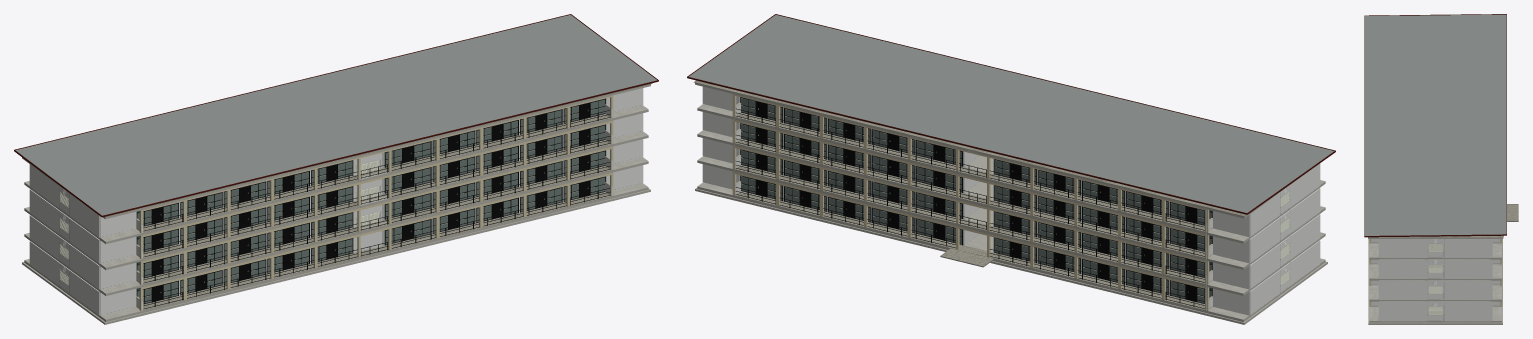
File: Hostel_Optimized.fbx
The picture shows the model from 3 angles, left to right: view 1: azimuth 30°, elevation 25°; view 2: azimuth 150°, elevation 25°; view 3: azimuth 270°, elevation 25°; orthographic projection. The views are drawn at different scales.
Parts seen in each view (by area): view 1: Roof_and_Site_Section_WebStatic, F1_Architecture_Section_WebStatic, F3_Architecture_Section_WebStatic, F2_Architecture_Section_WebStatic, F4_Architecture_Section_WebStatic, Corridor_End_Windows_0_WebStatic, Corridor_End_Windows_1_WebStatic, Corridor_End_Windows_2_WebStatic, F1_Washroom_West_Section_WebStatic, F2_Washroom_West_Section_WebStatic, F3_Washroom_West_Section_WebStatic, F4_Washroom_West_Section_WebStatic (+47 smaller); view 2: Roof_and_Site_Section_WebStatic, F3_Architecture_Section_WebStatic, F2_Architecture_Section_WebStatic, F1_Architecture_Section_WebStatic, F4_Architecture_Section_WebStatic, Corridor_End_Windows_0_WebStatic, Corridor_End_Windows_1_WebStatic, Corridor_End_Windows_2_WebStatic, F2_Washroom_West_Section_WebStatic, F3_Washroom_West_Section_WebStatic, F1_Washroom_West_Section_WebStatic, F4_Washroom_West_Section_WebStatic (+40 smaller); view 3: Roof_and_Site_Section_WebStatic, Corridor_End_Windows_0_WebStatic, Corridor_End_Windows_1_WebStatic, Corridor_End_Windows_2_WebStatic, F1_Architecture_Section_WebStatic, F2_Architecture_Section_WebStatic, F3_Architecture_Section_WebStatic, F4_Architecture_Section_WebStatic, Corridor_End_Windows_3_WebStatic.
Boxes of the visible parts, box(x1,y1,x2,y2) form: Roof_and_Site_Section_WebStatic: box(14, 14, 658, 324); F1_Architecture_Section_WebStatic: box(24, 172, 648, 321); F3_Architecture_Section_WebStatic: box(24, 120, 648, 269); F2_Architecture_Section_WebStatic: box(24, 146, 648, 295); F4_Architecture_Section_WebStatic: box(24, 95, 648, 243); Corridor_End_Windows_0_WebStatic: box(29, 139, 643, 315); Corridor_End_Windows_1_WebStatic: box(29, 113, 643, 263); Corridor_End_Windows_2_WebStatic: box(29, 88, 643, 237); F1_Washroom_West_Section_WebStatic: box(99, 288, 136, 315); F2_Washroom_West_Section_WebStatic: box(99, 263, 136, 289); F3_Washroom_West_Section_WebStatic: box(99, 237, 136, 263); F4_Washroom_West_Section_WebStatic: box(99, 212, 136, 237); Roof_and_Site_Section_WebStatic: box(687, 14, 1335, 324); F3_Architecture_Section_WebStatic: box(697, 117, 1325, 269); F2_Architecture_Section_WebStatic: box(697, 144, 1325, 295); F1_Architecture_Section_WebStatic: box(697, 170, 1325, 321); F4_Architecture_Section_WebStatic: box(697, 94, 1325, 243); Corridor_End_Windows_0_WebStatic: box(702, 138, 1320, 315); Corridor_End_Windows_1_WebStatic: box(702, 112, 1320, 263); Corridor_End_Windows_2_WebStatic: box(702, 87, 1320, 236); F2_Washroom_West_Section_WebStatic: box(1213, 262, 1249, 289); F3_Washroom_West_Section_WebStatic: box(1213, 236, 1249, 263); F1_Washroom_West_Section_WebStatic: box(1212, 288, 1249, 315); F4_Washroom_West_Section_WebStatic: box(1213, 211, 1249, 236); Roof_and_Site_Section_WebStatic: box(1364, 14, 1518, 324); Corridor_End_Windows_0_WebStatic: box(1379, 280, 1491, 321); Corridor_End_Windows_1_WebStatic: box(1379, 259, 1491, 293); Corridor_End_Windows_2_WebStatic: box(1379, 239, 1491, 272); F1_Architecture_Section_WebStatic: box(1369, 285, 1502, 322); F2_Architecture_Section_WebStatic: box(1369, 264, 1502, 301); F3_Architecture_Section_WebStatic: box(1369, 243, 1502, 280); F4_Architecture_Section_WebStatic: box(1369, 239, 1502, 259); Corridor_End_Windows_3_WebStatic: box(1427, 239, 1443, 251).
Bounding box in the file's own units: 7408 × 1456 × 2194.
5 materials, 2 textured.
